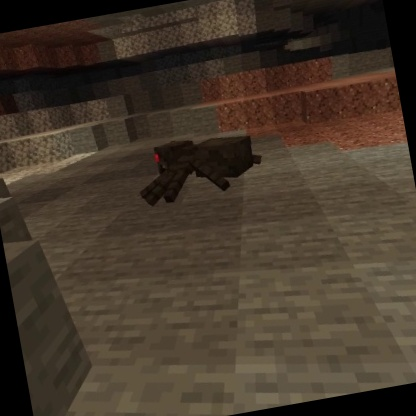spider: (129, 124, 270, 211)
